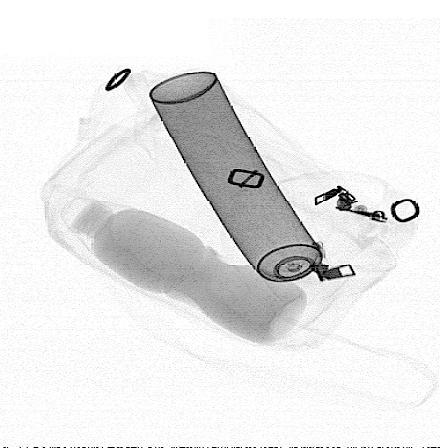Sprayer: (147, 70, 347, 310)
